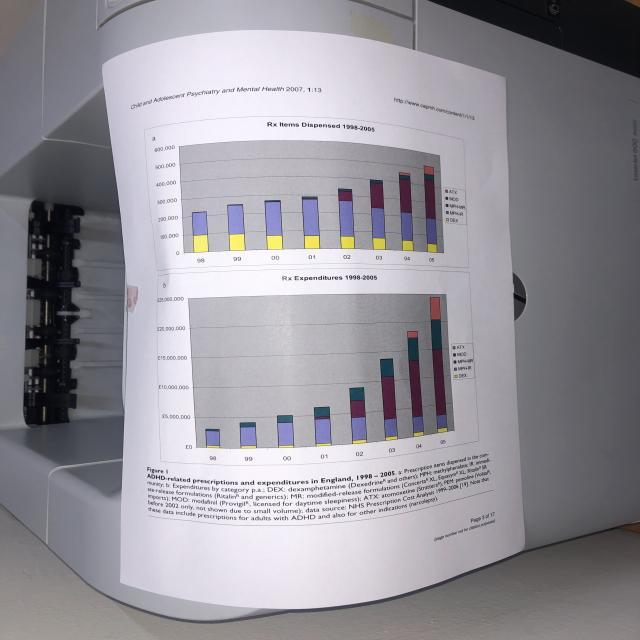kertas: (102, 21, 527, 616)
